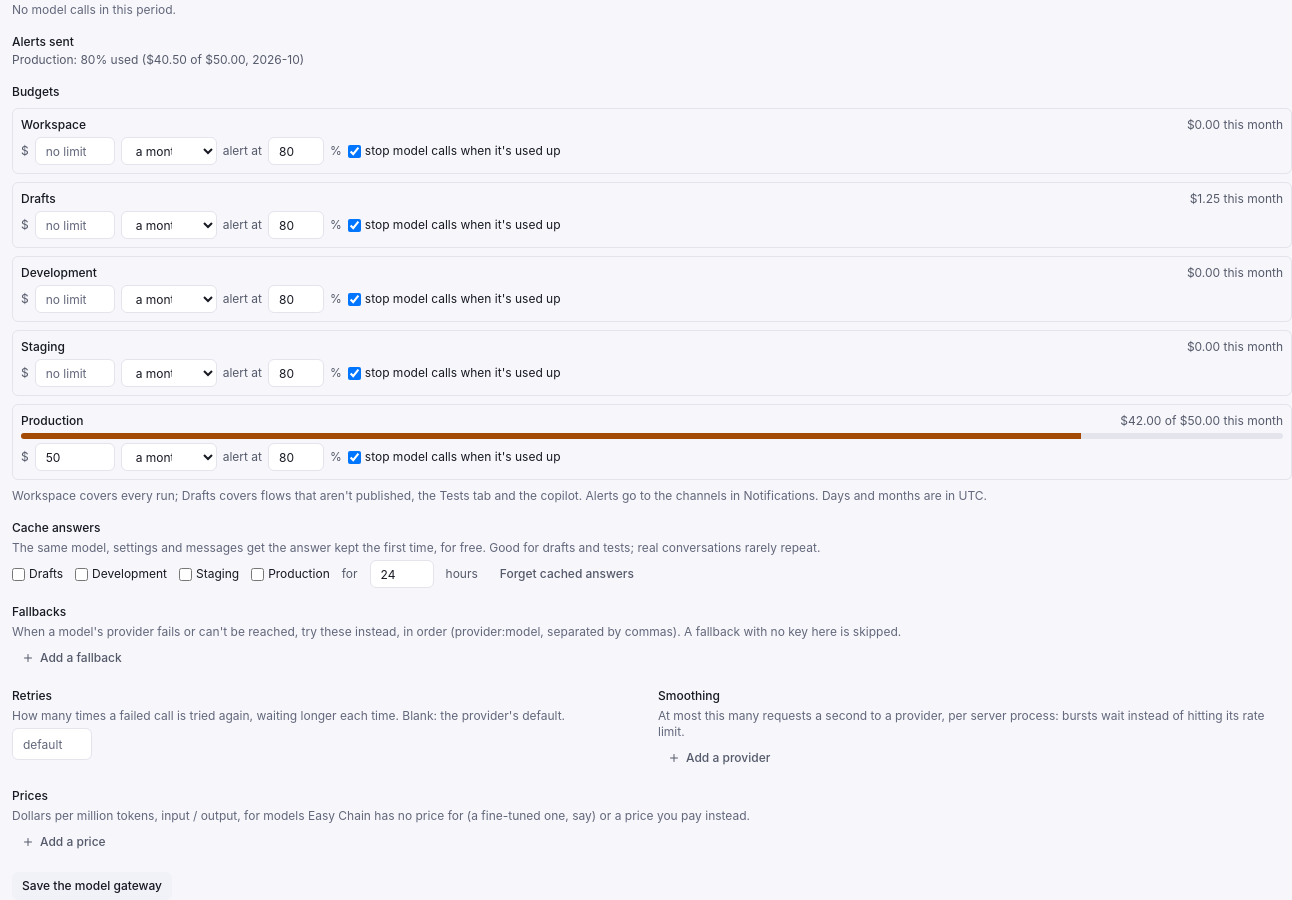
Test: Settings → Model gateway › shows what the server refused
This screenshot has width=1292, height=900.
(page scrolled)
Check: the text "No model calls in this period." is shown, box [12,2,176,17]
Click the button "Save the model gateway". click: (92, 886)
box: [12,872,172,899]
(page scrolled)
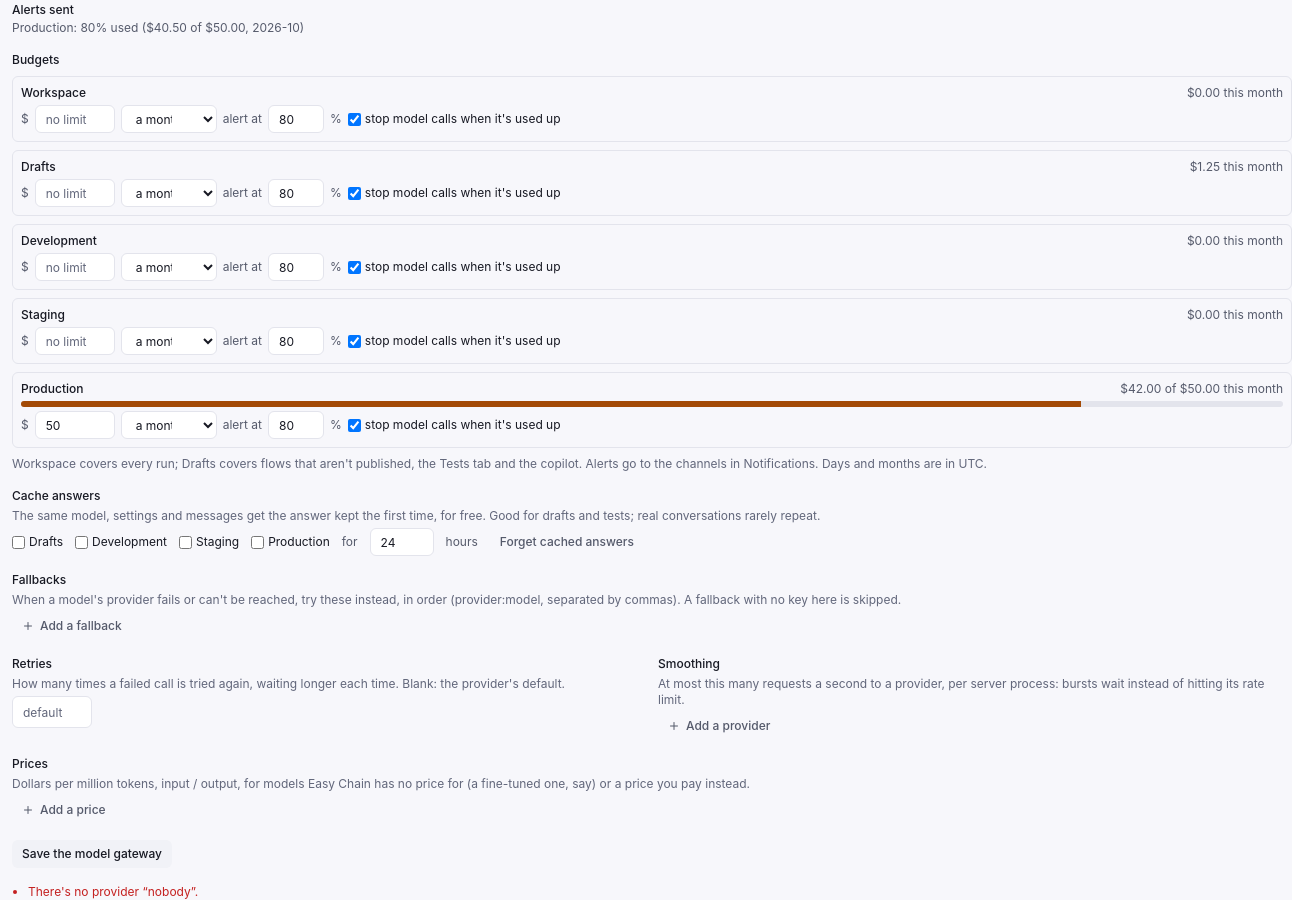
Check: the message reads "There's no provider “nobody”.", box [28,884,198,899]
